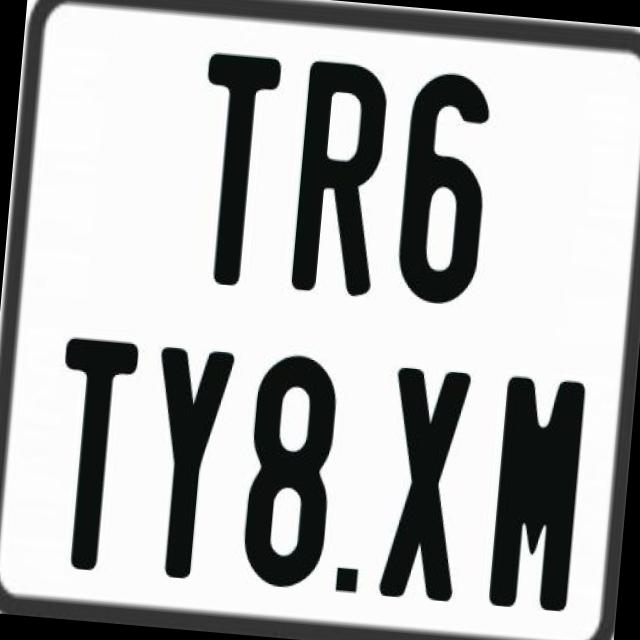6: (394, 71, 494, 316)
8: (239, 348, 346, 595)
M: (487, 375, 589, 618)
R: (286, 57, 386, 300)
T: (186, 50, 284, 289), (47, 333, 143, 576)
X: (380, 364, 472, 600)
Y: (139, 341, 237, 576)
